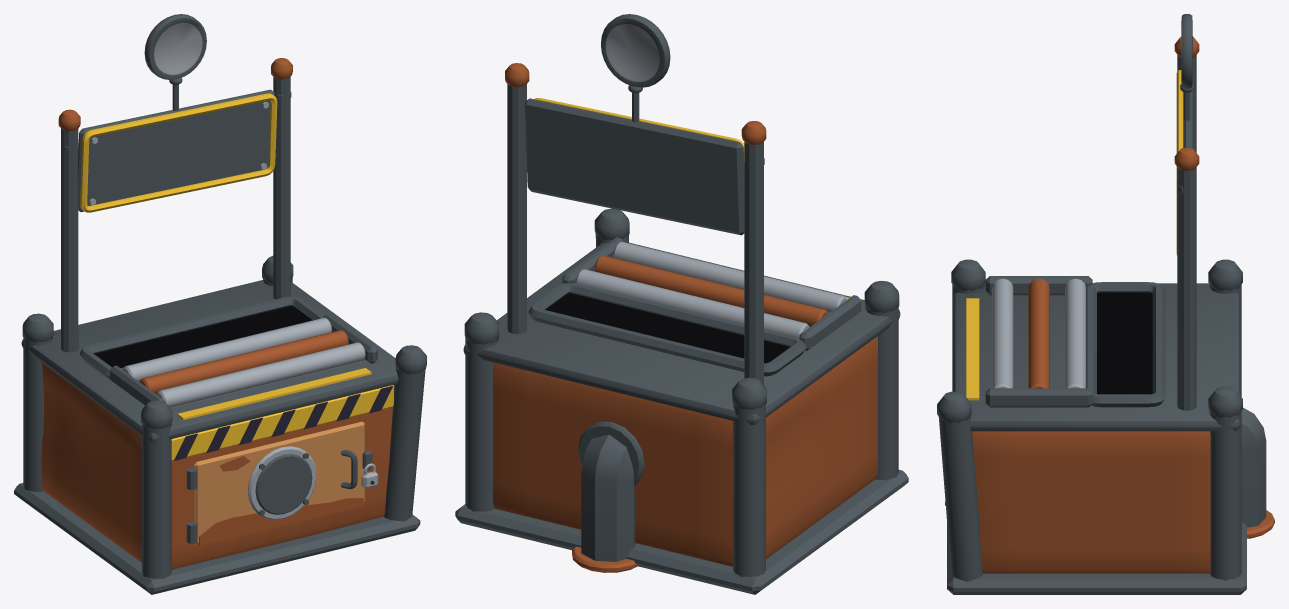
The model's file is deposit_chute.glb.
3 renders of one model, left to right at view 1: azimuth 30°, elevation 25°; view 2: azimuth 150°, elevation 25°; view 3: azimuth 270°, elevation 25°, orthographic. The views are drawn at different scales.
Parts seen in each view (by area): view 1: Chute, Coin; view 2: Chute, Coin; view 3: Chute, Coin.
Part boxes in pixels (x1,y1,x2,y2): Chute: [14, 58, 426, 594]; Coin: [144, 14, 206, 79]; Chute: [455, 63, 908, 594]; Coin: [601, 14, 670, 87]; Chute: [937, 36, 1274, 594]; Coin: [1181, 14, 1192, 88].
Size of the model in its own units: 1.63 by 2.62 by 1.58.
